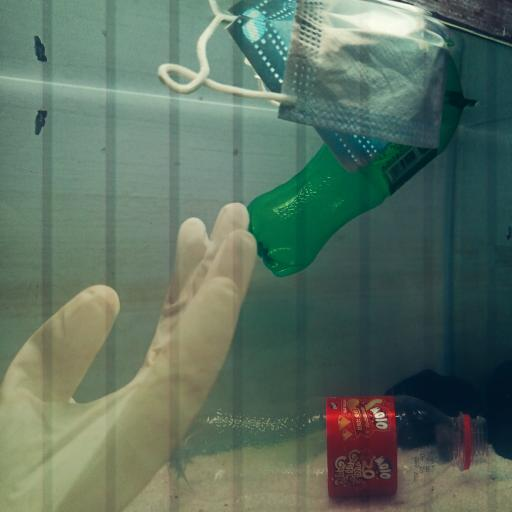glove: (5, 202, 258, 512)
mask: (161, 0, 459, 176)
plastic_bottle: (237, 100, 463, 278), (172, 394, 486, 510)
